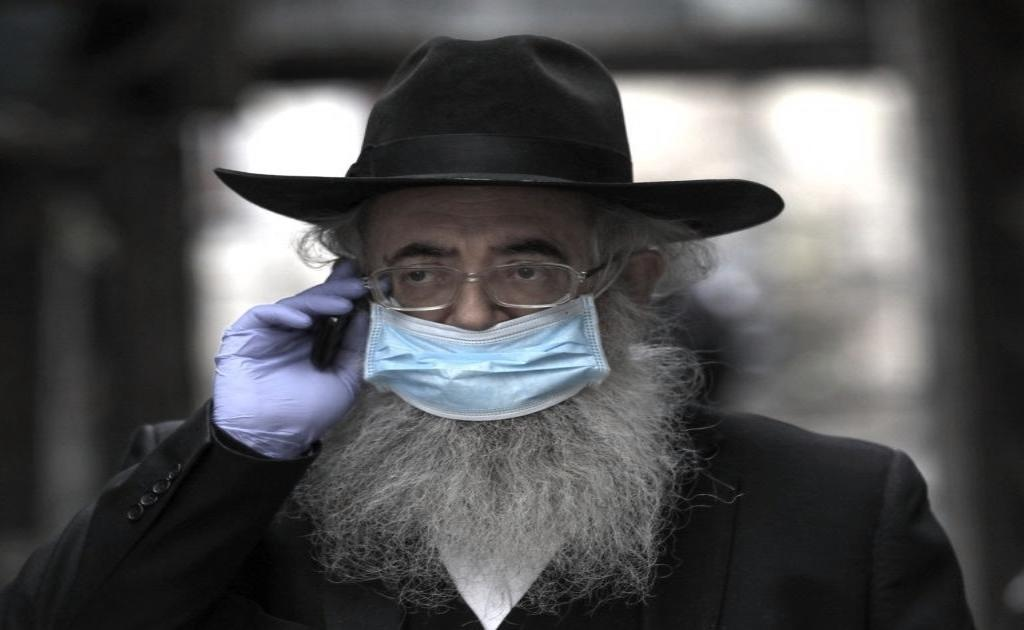mask_weared_incorrect: (342, 192, 660, 427)
